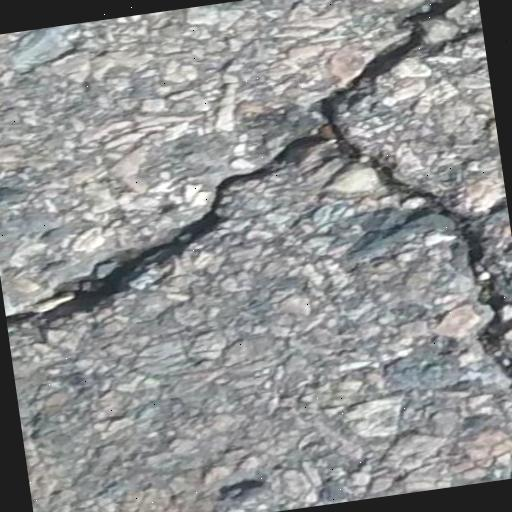spalling: (21, 0, 512, 476)
